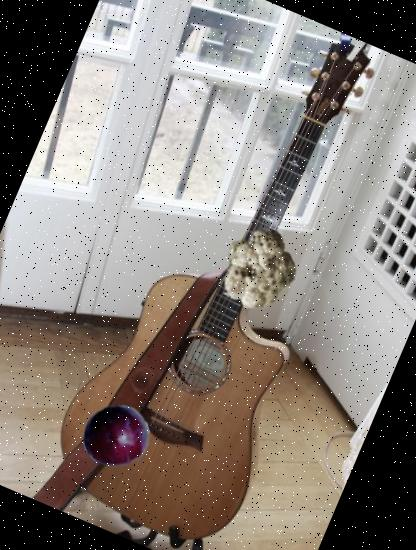Cauliflower: (203, 212, 316, 325)
Plum: (71, 392, 160, 481)
